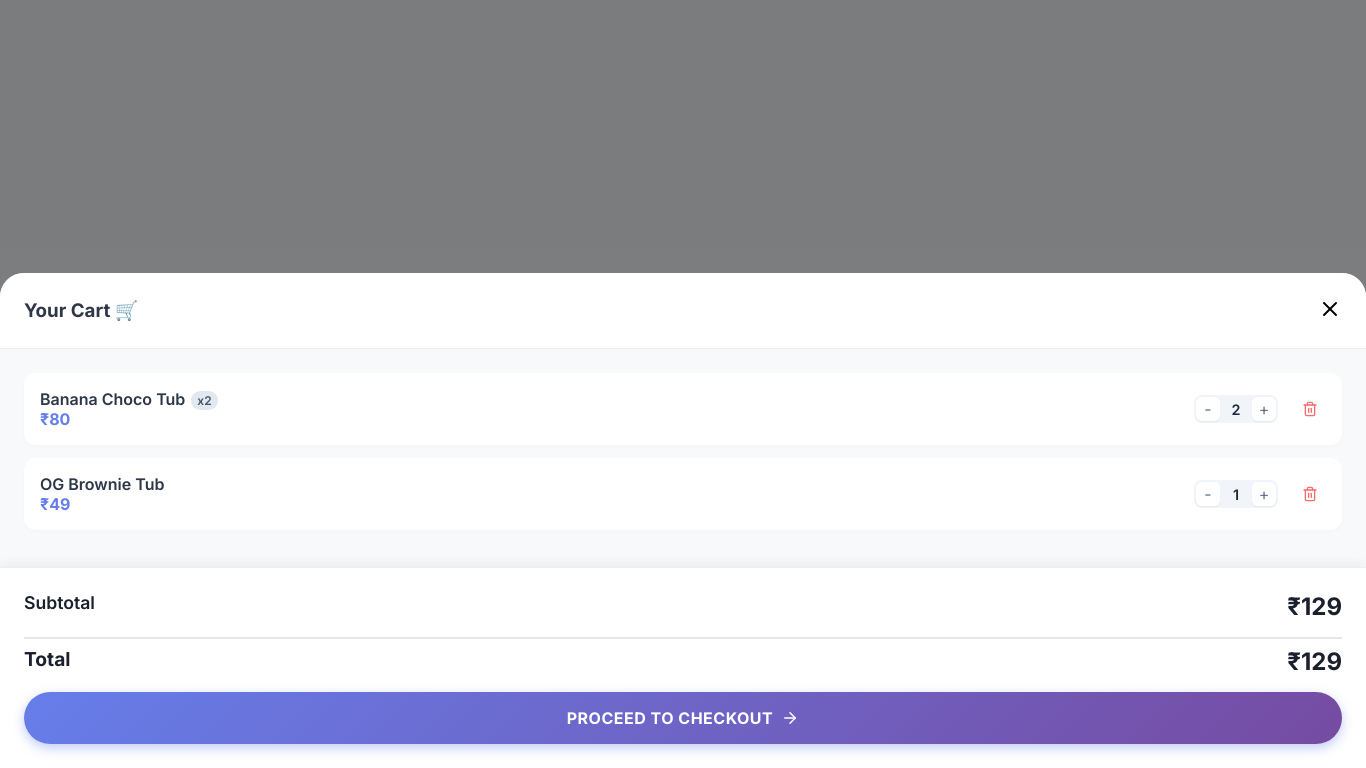
CartModal › Customer Info Step › should validate phone number
This screenshot has width=1366, height=768.
Click the button "Proceed to Checkout": (683, 718) [24,692,1342,744]
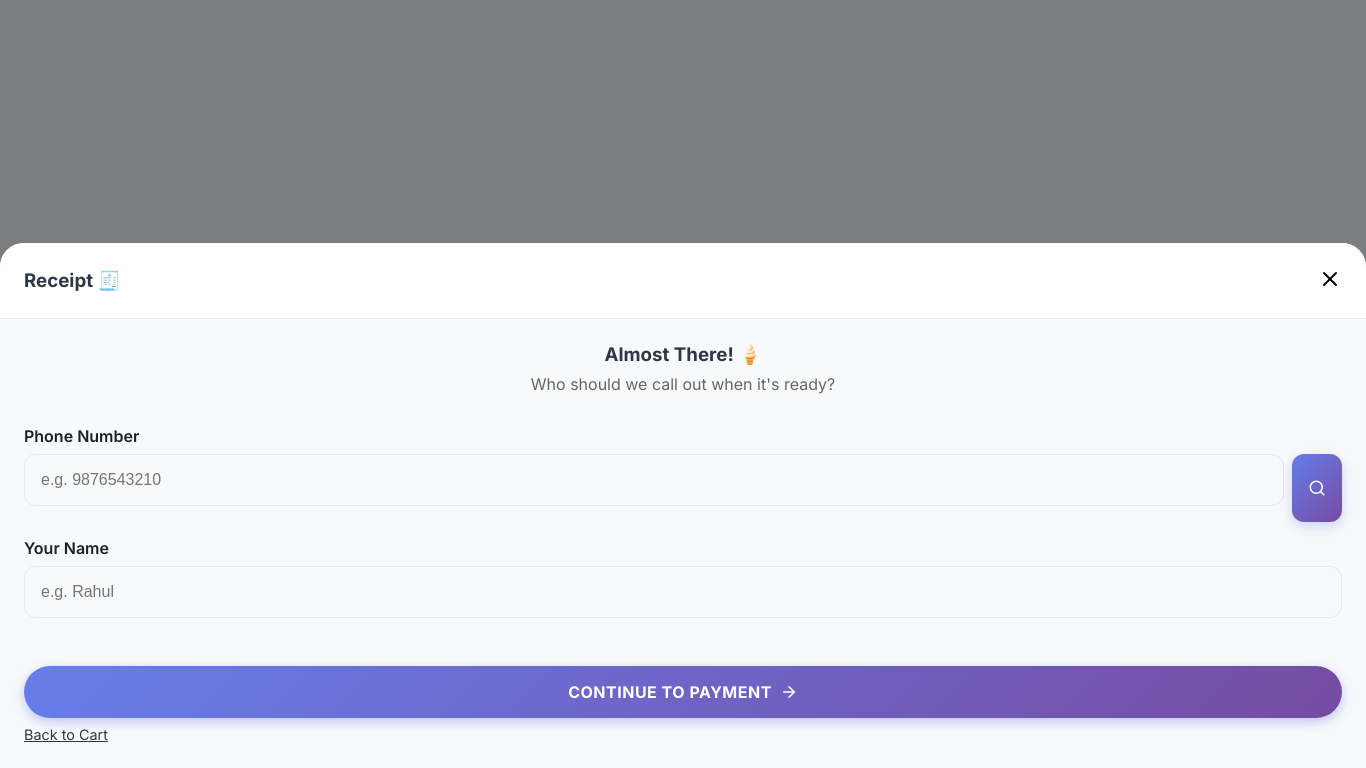
In the field with placeholder "e.g. 9876543210": (654, 480) [24,454,1284,506], type "123"
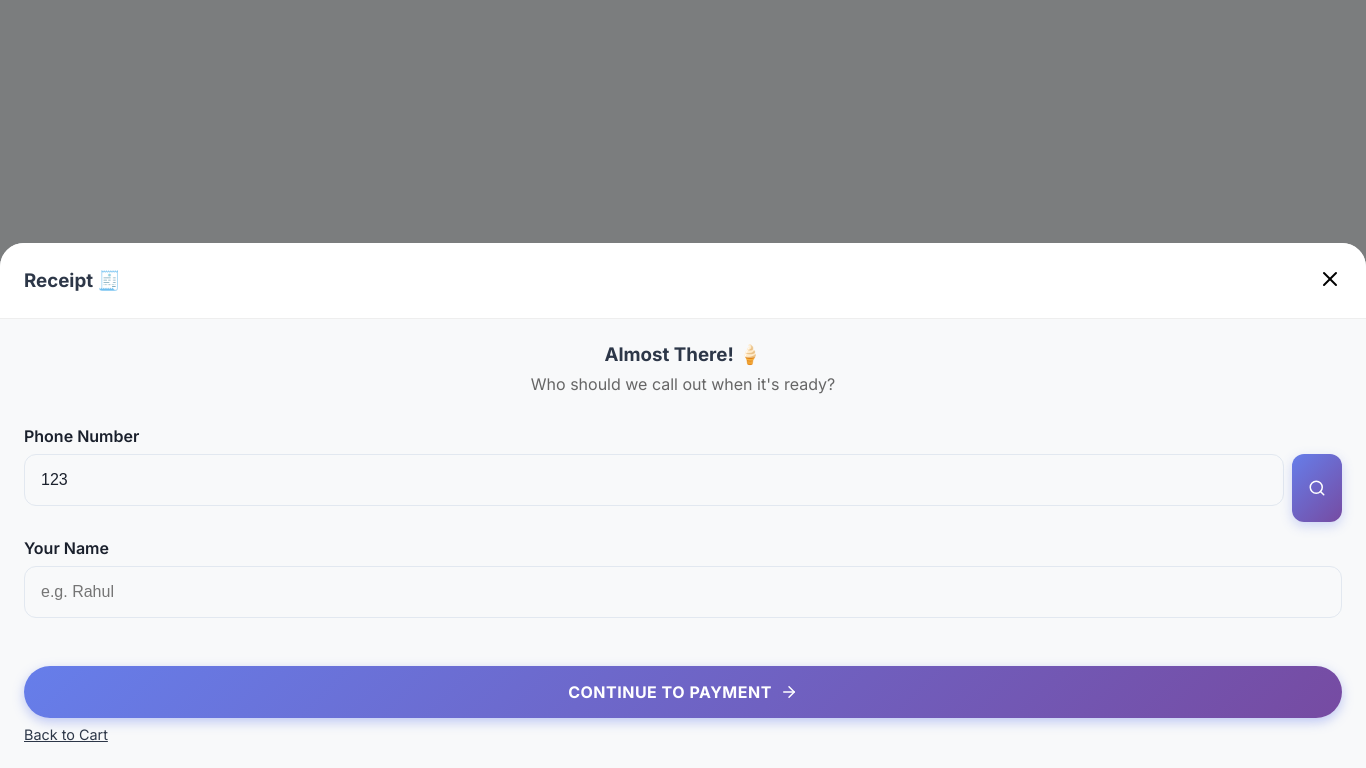
In the field with placeholder "e.g. Rahul": (683, 592) [24,566,1342,618], type "Test User"
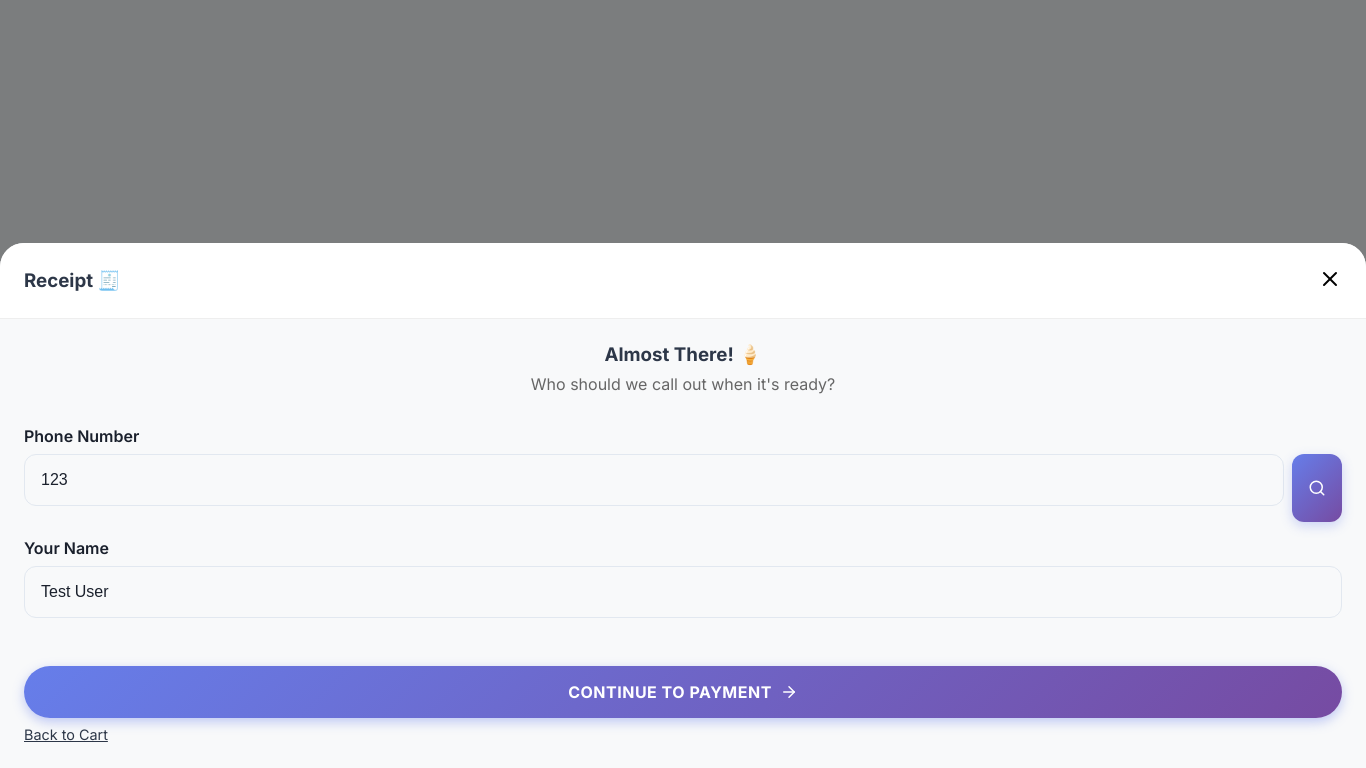
Click the button "Continue to Payment": (683, 692) [24,666,1342,718]
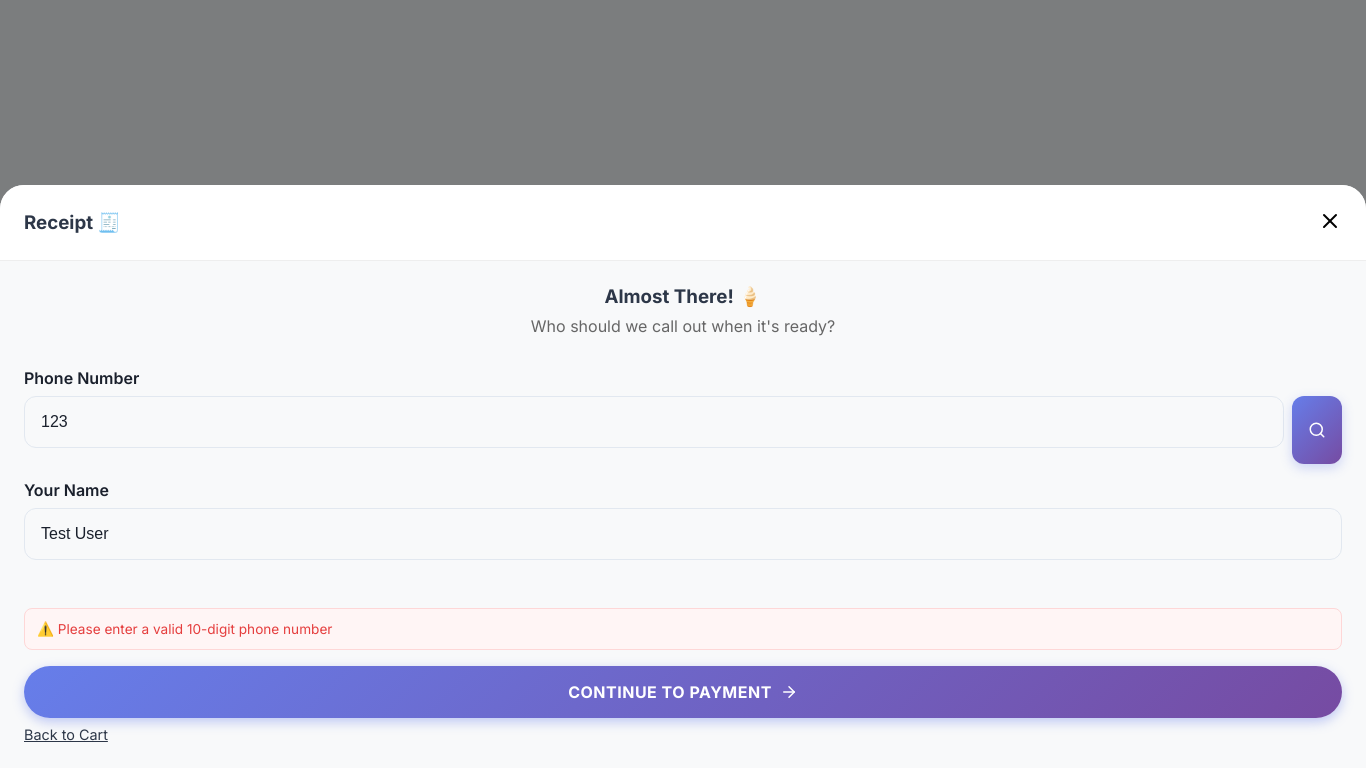
expect the text "⚠️ Please enter a valid 10-digit phone number" is shown: met, box [24,608,1342,650]
